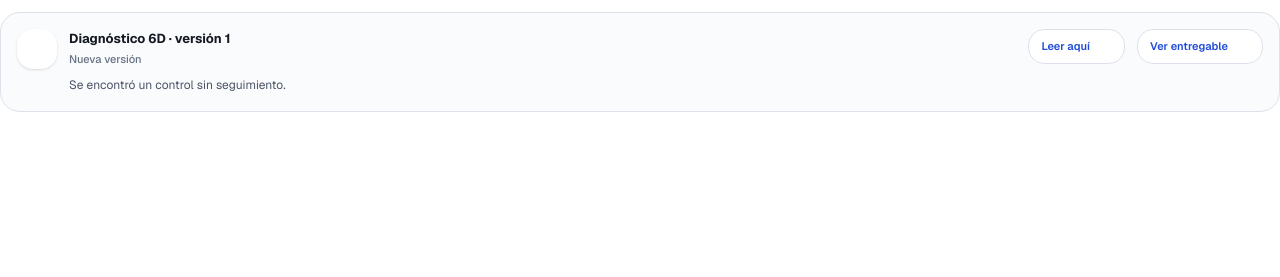
Test: vista rápida de entregables en la conversación › permite leer un diagnóstico en el chat sin abrir el panel
Click the button "Leer aquí".
click(1077, 46)  # box [1028,29,1125,64]
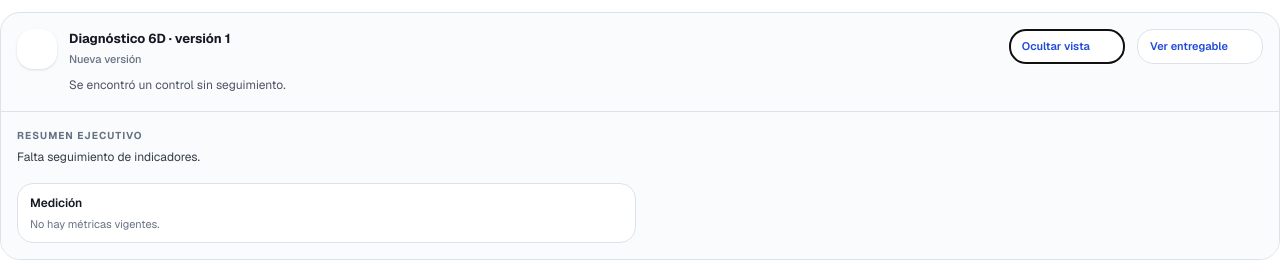
Check: the text "Falta seguimiento de indicadores." is shown, box [17,149,200,165]
